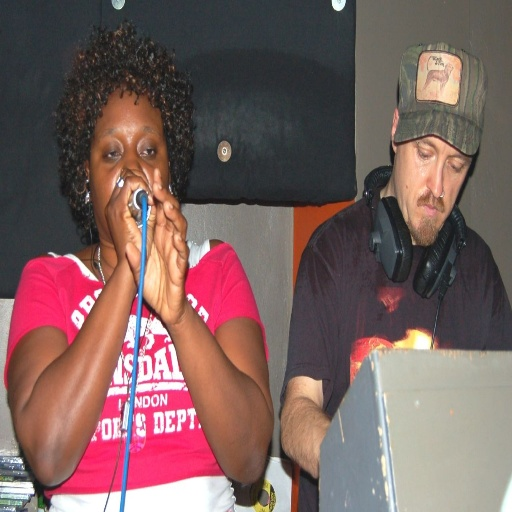hand: (134, 178, 187, 354), (102, 168, 153, 261)
